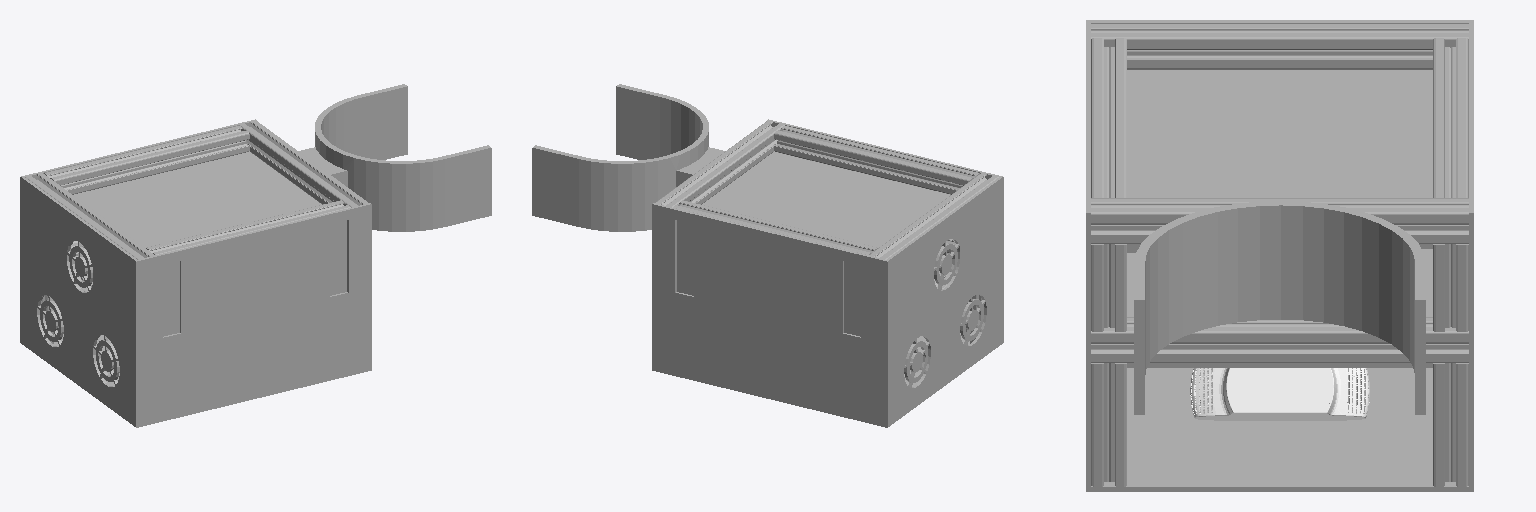
URDF robot description (05143):
<?xml version="1.0" encoding="utf-8"?>
<!-- This URDF was automatically created by SolidWorks to URDF Exporter! Originally created by [author] ([email redacted]) 
     Commit Version: 1.5.1-0-g916b5db  Build Version: 1.5.7152.31018
     For more information, please see http://wiki.ros.org/sw_urdf_exporter -->
<robot
  name="05143">
  <link
    name="Base">
    <inertial>
      <origin
        xyz="-0.142308649748716 -0.108885138072049 -0.0815546104060888"
        rpy="0 0 0" />
      <mass
        value="5.32485368404392" />
      <inertia
        ixx="0.0149047739356473"
        ixy="1.4797523173283E-06"
        ixz="7.80337094206551E-06"
        iyy="0.0219378727246539"
        iyz="-4.01751589933623E-06"
        izz="0.0232030208257597" />
    </inertial>
    <visual>
      <origin
        xyz="0 0 0"
        rpy="0 0 0" />
      <geometry>
        <mesh
          filename="package://05143/meshes/Base.STL" />
      </geometry>
      <material
        name="">
        <color
          rgba="0.752941176470588 0.752941176470588 0.752941176470588 1" />
      </material>
    </visual>
    <collision>
      <origin
        xyz="0 0 0"
        rpy="0 0 0" />
      <geometry>
        <mesh
          filename="package://05143/meshes/Base.STL" />
      </geometry>
    </collision>
  </link>
  <link
    name="LFS">
    <inertial>
      <origin
        xyz="0.0666875210853829 0.00348950989660712 -0.0643544912998068"
        rpy="0 0 0" />
      <mass
        value="0.26437001106022" />
      <inertia
        ixx="3.20746276473044E-05"
        ixy="-1.44118283518155E-07"
        ixz="-6.30853084354406E-08"
        iyy="6.22704126338821E-05"
        iyz="-2.01894652761254E-07"
        izz="6.28519936953906E-05" />
    </inertial>
    <visual>
      <origin
        xyz="0 0 0"
        rpy="0 0 0" />
      <geometry>
        <mesh
          filename="package://05143/meshes/LFS.STL" />
      </geometry>
      <material
        name="">
        <color
          rgba="0.752941176470588 0.752941176470588 0.752941176470588 1" />
      </material>
    </visual>
    <collision>
      <origin
        xyz="0 0 0"
        rpy="0 0 0" />
      <geometry>
        <mesh
          filename="package://05143/meshes/LFS.STL" />
      </geometry>
    </collision>
  </link>
  <joint
    name="LFS"
    type="prismatic">
    <origin
      xyz="-0.0508115623588095 -0.315160991135077 0.0467006291026886"
      rpy="-0.307630277882593 0 1.5707963267949" />
    <parent
      link="Base" />
    <child
      link="LFS" />
    <axis
      xyz="0 0.302801016091279 -0.953053799454201" />
    <limit
      lower="0"
      upper="0"
      effort="0"
      velocity="0" />
  </joint>
  <link
    name="LFW">
    <inertial>
      <origin
        xyz="-0.012315724574073 0 0"
        rpy="0 0 0" />
      <mass
        value="0.193585420779862" />
      <inertia
        ixx="0.000253081141332254"
        ixy="-5.88092833198904E-37"
        ixz="5.1845054750851E-21"
        iyy="0.000136818598566517"
        iyz="7.17557753438369E-37"
        izz="0.000136818598566517" />
    </inertial>
    <visual>
      <origin
        xyz="0 0 0"
        rpy="0 0 0" />
      <geometry>
        <mesh
          filename="package://05143/meshes/LFW.STL" />
      </geometry>
      <material
        name="">
        <color
          rgba="1 1 1 1" />
      </material>
    </visual>
    <collision>
      <origin
        xyz="0 0 0"
        rpy="0 0 0" />
      <geometry>
        <mesh
          filename="package://05143/meshes/LFW.STL" />
      </geometry>
    </collision>
  </link>
  <joint
    name="LFW"
    type="continuous">
    <origin
      xyz="0.00041099 -0.018372 -0.039304"
      rpy="-1.8707 0 3.1416" />
    <parent
      link="LFS" />
    <child
      link="LFW" />
    <axis
      xyz="1 0 0" />
    <limit
      effort="3.1"
      velocity="7" />
  </joint>
  <link
    name="RFS">
    <inertial>
      <origin
        xyz="0.0724473276378514 -0.00248083053559417 -0.0665731861852051"
        rpy="0 0 0" />
      <mass
        value="0.264370011060221" />
      <inertia
        ixx="3.20746276473045E-05"
        ixy="1.44118283518171E-07"
        ixz="6.3085308435442E-08"
        iyy="6.22704126338823E-05"
        iyz="-2.01894652761264E-07"
        izz="6.28519936953909E-05" />
    </inertial>
    <visual>
      <origin
        xyz="0 0 0"
        rpy="0 0 0" />
      <geometry>
        <mesh
          filename="package://05143/meshes/RFS.STL" />
      </geometry>
      <material
        name="">
        <color
          rgba="0.752941176470588 0.752941176470588 0.752941176470588 1" />
      </material>
    </visual>
    <collision>
      <origin
        xyz="0 0 0"
        rpy="0 0 0" />
      <geometry>
        <mesh
          filename="package://05143/meshes/RFS.STL" />
      </geometry>
    </collision>
  </link>
  <joint
    name="RFS"
    type="prismatic">
    <origin
      xyz="-0.0121278542793212 0.104920797687545 0.0470160464849399"
      rpy="-0.307630277882592 0 -1.5707963267949" />
    <parent
      link="Base" />
    <child
      link="RFS" />
    <axis
      xyz="0 0.302801016091278 -0.953053799454202" />
    <limit
      lower="0"
      upper="0"
      effort="0"
      velocity="0" />
  </joint>
  <link
    name="RFW">
    <inertial>
      <origin
        xyz="-0.012316 0 1.3878E-17"
        rpy="0 0 0" />
      <mass
        value="0.19359" />
      <inertia
        ixx="0.00025308"
        ixy="-1.235E-21"
        ixz="2.0716E-21"
        iyy="0.00013682"
        iyz="3.3881E-21"
        izz="0.00013682" />
    </inertial>
    <visual>
      <origin
        xyz="0 0 0"
        rpy="0 0 0" />
      <geometry>
        <mesh
          filename="package://05143/meshes/RFW.STL" />
      </geometry>
      <material
        name="">
        <color
          rgba="1 1 1 1" />
      </material>
    </visual>
    <collision>
      <origin
        xyz="0 0 0"
        rpy="0 0 0" />
      <geometry>
        <mesh
          filename="package://05143/meshes/RFW.STL" />
      </geometry>
    </collision>
  </link>
  <joint
    name="RFW"
    type="continuous">
    <origin
      xyz="0.0061708 0.00091629 -0.033508"
      rpy="-0.70714 0 3.1416" />
    <parent
      link="RFS" />
    <child
      link="RFW" />
    <axis
      xyz="1 0 0" />
    <limit
      effort="3.1"
      velocity="7" />
  </joint>
  <link
    name="LBS">
    <inertial>
      <origin
        xyz="0.0754022136877307 -0.00959516940601612 -0.0220143953841323"
        rpy="0 0 0" />
      <mass
        value="0.197009126147877" />
      <inertia
        ixx="1.68802738687173E-05"
        ixy="-1.14223811246579E-21"
        ixz="2.10917851921342E-20"
        iyy="5.0218488566757E-05"
        iyz="1.0508875929185E-06"
        izz="4.72447473350487E-05" />
    </inertial>
    <visual>
      <origin
        xyz="0 0 0"
        rpy="0 0 0" />
      <geometry>
        <mesh
          filename="package://05143/meshes/LBS.STL" />
      </geometry>
      <material
        name="">
        <color
          rgba="0.752941176470588 0.752941176470588 0.752941176470588 1" />
      </material>
    </visual>
    <collision>
      <origin
        xyz="0 0 0"
        rpy="0 0 0" />
      <geometry>
        <mesh
          filename="package://05143/meshes/LBS.STL" />
      </geometry>
    </collision>
  </link>
  <joint
    name="LBS"
    type="prismatic">
    <origin
      xyz="-0.230811562358809 -0.315160991135077 -0.00442015747600877"
      rpy="-0.307630277882593 0 1.5707963267949" />
    <parent
      link="Base" />
    <child
      link="LBS" />
    <axis
      xyz="0 0.302801016091285 -0.953053799454199" />
    <limit
      lower="0"
      upper="0"
      effort="0"
      velocity="0" />
  </joint>
  <link
    name="LBC">
    <inertial>
      <origin
        xyz="0.000464526735875104 -0.0102558391455497 0"
        rpy="0 0 0" />
      <mass
        value="0.0433962459602619" />
      <inertia
        ixx="2.11800424724879E-05"
        ixy="5.53822046363834E-07"
        ixz="1.58818677610181E-22"
        iyy="1.76453344713605E-06"
        iyz="-2.19682627081833E-20"
        izz="2.14947085785555E-05" />
    </inertial>
    <visual>
      <origin
        xyz="0 0 0"
        rpy="0 0 0" />
      <geometry>
        <mesh
          filename="package://05143/meshes/LBC.STL" />
      </geometry>
      <material
        name="">
        <color
          rgba="0.898039215686275 0.917647058823529 0.929411764705882 1" />
      </material>
    </visual>
    <collision>
      <origin
        xyz="0 0 0"
        rpy="0 0 0" />
      <geometry>
        <mesh
          filename="package://05143/meshes/LBC.STL" />
      </geometry>
    </collision>
  </link>
  <joint
    name="LBC"
    type="continuous">
    <origin
      xyz="0.0411609911350767 -0.0150684419408271 -0.00478749419309586"
      rpy="-1.87842355251803 -0.00139263512405294 3.13720937469085" />
    <parent
      link="LBS" />
    <child
      link="LBC" />
    <axis
      xyz="0 1 0" />
  </joint>
  <link
    name="LBW">
    <inertial>
      <origin
        xyz="0.0064727 1.3878E-17 2.7756E-17"
        rpy="0 0 0" />
      <mass
        value="0.036889" />
      <inertia
        ixx="1.6727E-05"
        ixy="1.7292E-21"
        ixz="-4.7679E-21"
        iyy="8.8793E-06"
        iyz="2.1176E-22"
        izz="8.8793E-06" />
    </inertial>
    <visual>
      <origin
        xyz="0 0 0"
        rpy="0 0 0" />
      <geometry>
        <mesh
          filename="package://05143/meshes/LBW.STL" />
      </geometry>
      <material
        name="">
        <color
          rgba="1 1 1 1" />
      </material>
    </visual>
    <collision>
      <origin
        xyz="0 0 0"
        rpy="0 0 0" />
      <geometry>
        <mesh
          filename="package://05143/meshes/LBW.STL" />
      </geometry>
    </collision>
  </link>
  <joint
    name="LBW"
    type="continuous">
    <origin
      xyz="0.0095006 -0.037729 0"
      rpy="-2.9585 0 0" />
    <parent
      link="LBC" />
    <child
      link="LBW" />
    <axis
      xyz="1 0 0" />
    <limit
      effort="3.1"
      velocity="7" />
  </joint>
  <link
    name="RBS">
    <inertial>
      <origin
        xyz="0.0754022136877308 -0.00955739367510416 -0.0221332929503895"
        rpy="0 0 0" />
      <mass
        value="0.197009126147877" />
      <inertia
        ixx="1.68802738687173E-05"
        ixy="-2.46037721499561E-21"
        ixz="6.53516436330766E-22"
        iyy="5.0218488566757E-05"
        iyz="1.05088759291849E-06"
        izz="4.72447473350487E-05" />
    </inertial>
    <visual>
      <origin
        xyz="0 0 0"
        rpy="0 0 0" />
      <geometry>
        <mesh
          filename="package://05143/meshes/RBS.STL" />
      </geometry>
      <material
        name="">
        <color
          rgba="0.752941176470588 0.752941176470588 0.752941176470588 1" />
      </material>
    </visual>
    <collision>
      <origin
        xyz="0 0 0"
        rpy="0 0 0" />
      <geometry>
        <mesh
          filename="package://05143/meshes/RBS.STL" />
      </geometry>
    </collision>
  </link>
  <joint
    name="RBS"
    type="prismatic">
    <origin
      xyz="-0.199190174459287 0.0991609911350767 -0.00429540316903771"
      rpy="-0.307630277882593 0 -1.5707963267949" />
    <parent
      link="Base" />
    <child
      link="RBS" />
    <axis
      xyz="0 0.302801016091279 -0.953053799454201" />
    <limit
      lower="0"
      upper="0"
      effort="0"
      velocity="0" />
  </joint>
  <link
    name="RBC">
    <inertial>
      <origin
        xyz="0.000464526735875104 -0.0101310848385787 2.77555756156289E-17"
        rpy="0 0 0" />
      <mass
        value="0.0433962459602619" />
      <inertia
        ixx="2.11800424724879E-05"
        ixy="5.53822046363849E-07"
        ixz="-4.96338963272466E-22"
        iyy="1.76453344713605E-06"
        iyz="2.09251879557539E-20"
        izz="2.14947085785555E-05" />
    </inertial>
    <visual>
      <origin
        xyz="0 0 0"
        rpy="0 0 0" />
      <geometry>
        <mesh
          filename="package://05143/meshes/RBC.STL" />
      </geometry>
      <material
        name="">
        <color
          rgba="0.898039215686275 0.917647058823529 0.929411764705882 1" />
      </material>
    </visual>
    <collision>
      <origin
        xyz="0 0 0"
        rpy="0 0 0" />
      <geometry>
        <mesh
          filename="package://05143/meshes/RBC.STL" />
      </geometry>
    </collision>
  </link>
  <joint
    name="RBC"
    type="continuous">
    <origin
      xyz="0.0411609911350767 -0.0150684419408278 -0.00478749419309604"
      rpy="-1.87842660467749 0 3.14159265358979" />
    <parent
      link="RBS" />
    <child
      link="RBC" />
    <axis
      xyz="0 1 0" />
  </joint>
  <link
    name="RBW">
    <inertial>
      <origin
        xyz="0.0064733 -2.7756E-17 1.3878E-17"
        rpy="0 0 0" />
      <mass
        value="0.036889" />
      <inertia
        ixx="1.6727E-05"
        ixy="-2.2268E-21"
        ixz="-4.5789E-22"
        iyy="8.8793E-06"
        iyz="0"
        izz="8.8793E-06" />
    </inertial>
    <visual>
      <origin
        xyz="0 0 0"
        rpy="0 0 0" />
      <geometry>
        <mesh
          filename="package://05143/meshes/RBW.STL" />
      </geometry>
      <material
        name="">
        <color
          rgba="1 1 1 1" />
      </material>
    </visual>
    <collision>
      <origin
        xyz="0 0 0"
        rpy="0 0 0" />
      <geometry>
        <mesh
          filename="package://05143/meshes/RBW.STL" />
      </geometry>
    </collision>
  </link>
  <joint
    name="RBW"
    type="continuous">
    <origin
      xyz="0.0095 -0.037604 0"
      rpy="0.98365 0 0" />
    <parent
      link="RBC" />
    <child
      link="RBW" />
    <axis
      xyz="1 0 0" />
    <limit
      effort="3.1"
      velocity="7" />
  </joint>
  <link
    name="Lidar">
    <inertial>
      <origin
        xyz="-0.078493 0.74443 0.13345"
        rpy="0 0 0" />
      <mass
        value="0.073085" />
      <inertia
        ixx="1.9581E-05"
        ixy="-4.2839E-07"
        ixz="1.0393E-07"
        iyy="4.1418E-05"
        iyz="-9.4274E-09"
        izz="2.4125E-05" />
    </inertial>
    <visual>
      <origin
        xyz="0 0 0"
        rpy="0 0 0" />
      <geometry>
        <mesh
          filename="package://05143/meshes/Lidar.STL" />
      </geometry>
      <material
        name="">
        <color
          rgba="0.79216 0.81961 0.93333 1" />
      </material>
    </visual>
    <collision>
      <origin
        xyz="0 0 0"
        rpy="0 0 0" />
      <geometry>
        <mesh
          filename="package://05143/meshes/Lidar.STL" />
      </geometry>
    </collision>
  </link>
  <joint
    name="Lidar"
    type="fixed">
    <origin
      xyz="-0.098561 -0.24092 0.5487"
      rpy="-1.5708 0 0" />
    <parent
      link="Base" />
    <child
      link="Lidar" />
    <axis
      xyz="0 0 0" />
  </joint>
  <link
    name="Front_Cam">
    <inertial>
      <origin
        xyz="0.049836 0.061784 0.068723"
        rpy="0 0 0" />
      <mass
        value="0.043612" />
      <inertia
        ixx="4.2948E-06"
        ixy="-8.8589E-10"
        ixz="-1.0181E-09"
        iyy="2.2106E-05"
        iyz="2.1758E-08"
        izz="2.3571E-05" />
    </inertial>
    <visual>
      <origin
        xyz="0 0 0"
        rpy="0 0 0" />
      <geometry>
        <mesh
          filename="package://05143/meshes/Front_Cam.STL" />
      </geometry>
      <material
        name="">
        <color
          rgba="0.79216 0.81961 0.93333 1" />
      </material>
    </visual>
    <collision>
      <origin
        xyz="0 0 0"
        rpy="0 0 0" />
      <geometry>
        <mesh
          filename="package://05143/meshes/Front_Cam.STL" />
      </geometry>
    </collision>
  </link>
  <joint
    name="Front_Cam"
    type="fixed">
    <origin
      xyz="-0.080278 -0.058161 -0.092502"
      rpy="-1.5708 0 -1.5708" />
    <parent
      link="Base" />
    <child
      link="Front_Cam" />
    <axis
      xyz="0 0 0" />
  </joint>
  <link
    name="Ball_cam">
    <inertial>
      <origin
        xyz="0 0 0"
        rpy="0 0 0" />
      <mass
        value="0" />
      <inertia
        ixx="0"
        ixy="0"
        ixz="0"
        iyy="0"
        iyz="0"
        izz="0" />
    </inertial>
    <visual>
      <origin
        xyz="0 0 0"
        rpy="0 0 0" />
      <geometry>
        <mesh
          filename="package://05143/meshes/Ball_cam.STL" />
      </geometry>
      <material
        name="">
        <color
          rgba="1 1 1 1" />
      </material>
    </visual>
    <collision>
      <origin
        xyz="0 0 0"
        rpy="0 0 0" />
      <geometry>
        <mesh
          filename="package://05143/meshes/Ball_cam.STL" />
      </geometry>
    </collision>
  </link>
  <joint
    name="Ball_cam"
    type="fixed">
    <origin
      xyz="-0.101690797714346 -0.0579934881173947 -0.105837116443109"
      rpy="-0.939475073990972 0 -1.5707963267949" />
    <parent
      link="Base" />
    <child
      link="Ball_cam" />
    <axis
      xyz="0 0 0" />
  </joint>
</robot>

--- Render facts (derived) ---
3 views of the same robot in one strip: view 1: azimuth 30°, elevation 25°; view 2: azimuth 150°, elevation 25°; view 3: azimuth 270°, elevation 25° (orthographic).
Model 05143 with 14 links and 13 joints (6 continuous, 4 prismatic, 3 fixed), rooted at Base, posed every joint at zero.
Visible links, largest first — view 1: Base; view 2: Base; view 3: Base, Ball_cam.
Link boxes in pixels (box(x1,y1,x2,y2)): Base: box(20, 84, 491, 427); Base: box(532, 84, 1003, 427); Base: box(1086, 20, 1473, 491); Ball_cam: box(1190, 368, 1369, 420).
Size in the robot's own frame: 0.3973 by 0.216 by 0.1845 metres.
2 mesh visuals loaded from 14 distinct referenced files (2 binary STL); not drawn: 12 (reference not matched to a file when rendering).